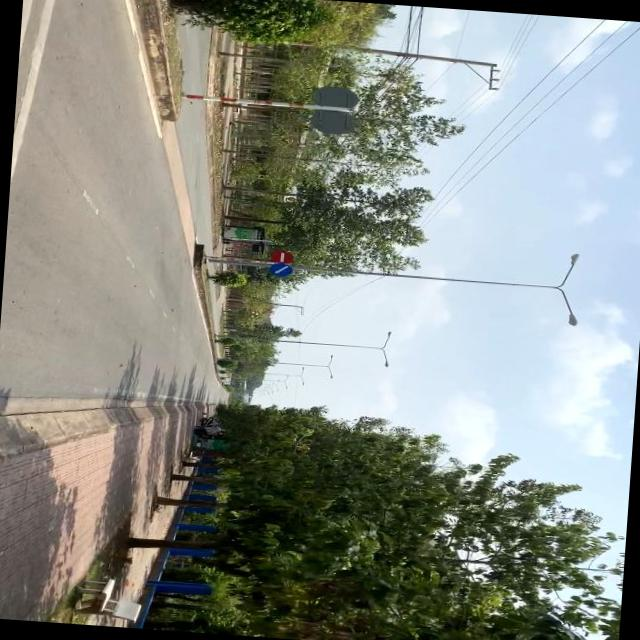P-102: (270, 248, 294, 264)
R-302a: (268, 262, 292, 277)
